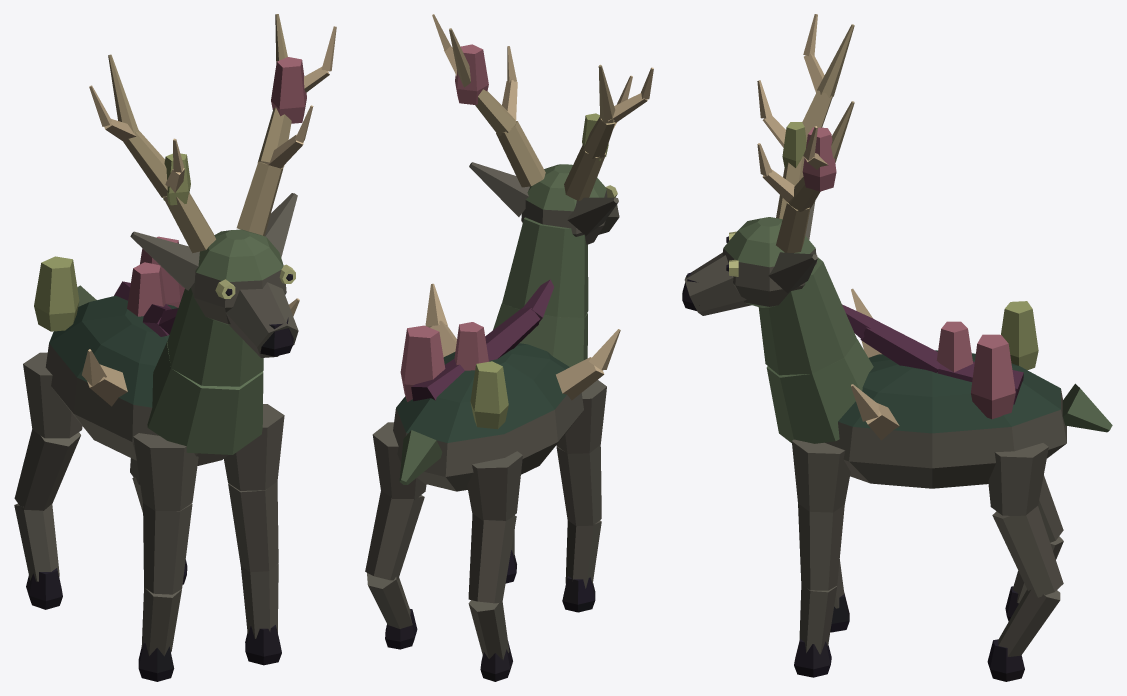
File: svalich-stag-bloomed.glb
3 renders of one model, left to right at view 1: azimuth 30°, elevation 25°; view 2: azimuth 150°, elevation 25°; view 3: azimuth 270°, elevation 25°, orthographic. The views are drawn at different scales.
Visible parts, largest first — view 1: Svalich stag · bloomed; view 2: Svalich stag · bloomed; view 3: Svalich stag · bloomed.
Boxes of the visible parts, x1=… form: Svalich stag · bloomed: x1=14, y1=14, x2=336, y2=681; Svalich stag · bloomed: x1=365, y1=14, x2=653, y2=681; Svalich stag · bloomed: x1=682, y1=14, x2=1112, y2=681.
Size of the model in its own units: 0.6456 by 1.55 by 1.03.
